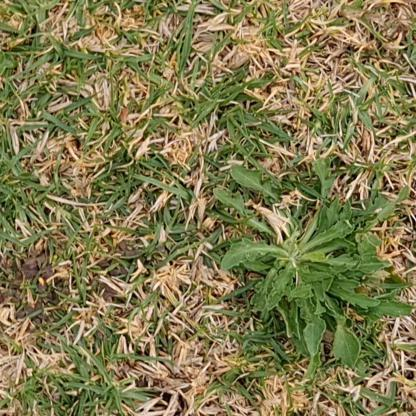Weeds: (214, 163, 415, 372)
